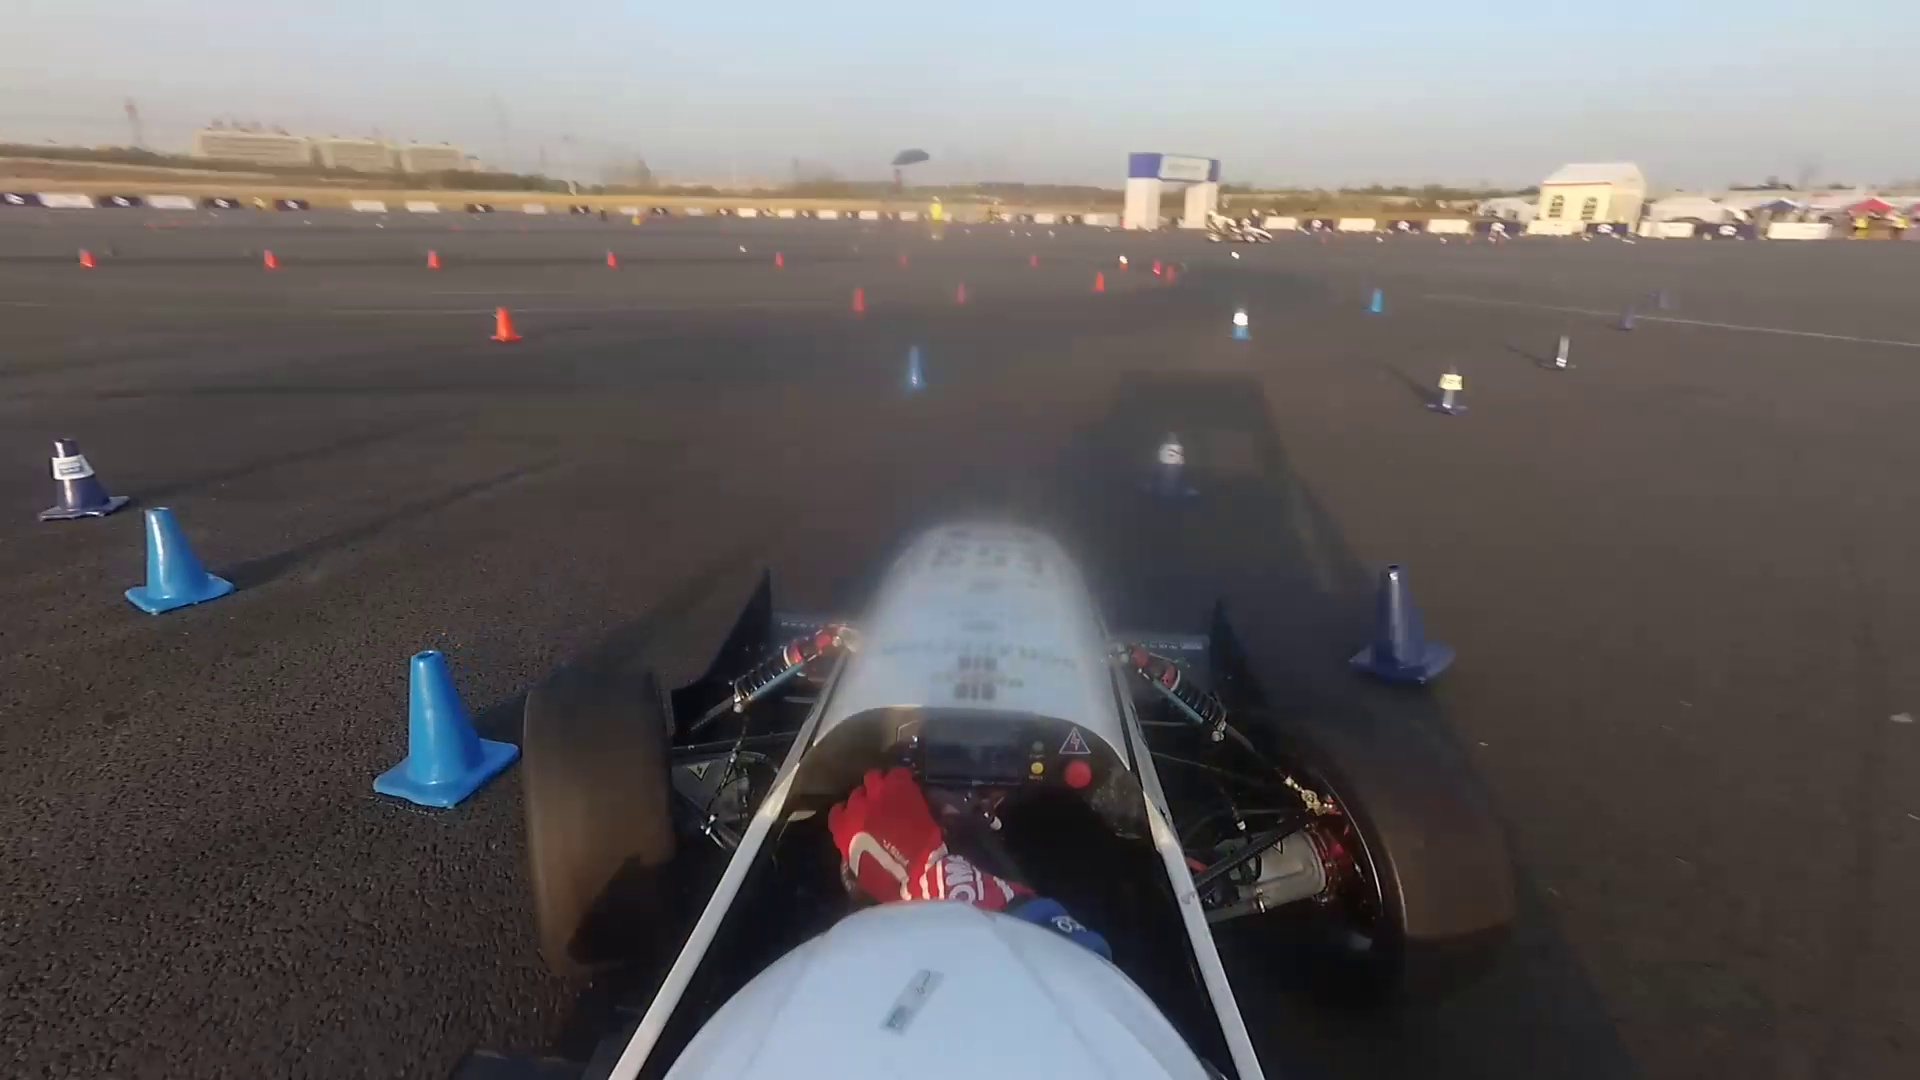blue_cone: (376, 659, 495, 820), (1354, 574, 1461, 688), (127, 513, 210, 624), (46, 447, 109, 527), (1137, 436, 1193, 501), (895, 347, 934, 386), (1433, 373, 1465, 419), (1549, 330, 1573, 378), (1232, 311, 1261, 345), (1367, 290, 1389, 318), (1617, 303, 1634, 331), (1655, 291, 1667, 310)
red_cone: (488, 309, 522, 340), (76, 247, 98, 274), (605, 251, 618, 270), (851, 291, 864, 311), (427, 249, 440, 266), (953, 284, 967, 301), (264, 251, 276, 268), (1095, 276, 1106, 293), (1029, 255, 1040, 266), (774, 253, 785, 266), (901, 252, 910, 266), (1120, 255, 1129, 269), (1168, 266, 1176, 281), (1151, 262, 1162, 273)
